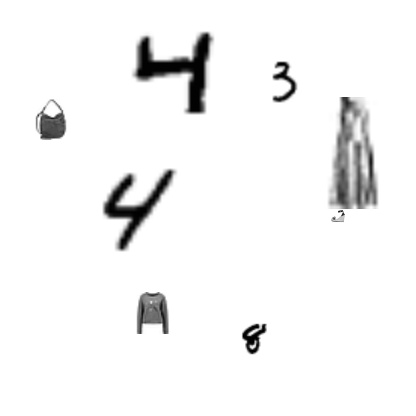3: (255, 52, 311, 108)
4: (76, 150, 188, 262), (121, 13, 233, 125)
8: (232, 315, 274, 357)
Bag: (30, 98, 72, 140)
Dress: (297, 97, 409, 209)
Pullover: (131, 292, 173, 334)
Sandal: (331, 209, 345, 223)
